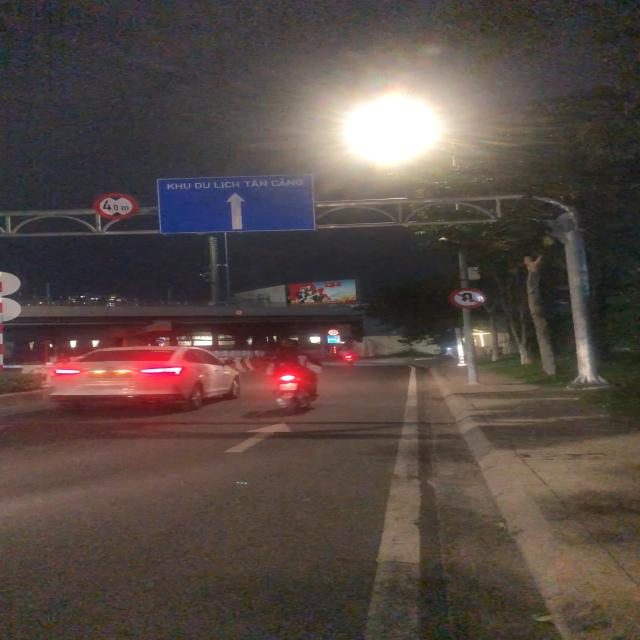Bien bao cam quay dau xe: (448, 286, 486, 310)
Bien bao han che chieu cao: (92, 191, 138, 221)
